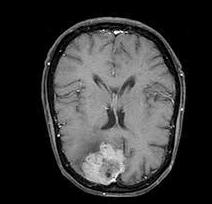Tumour-Meningioma: (78, 137, 131, 192)
